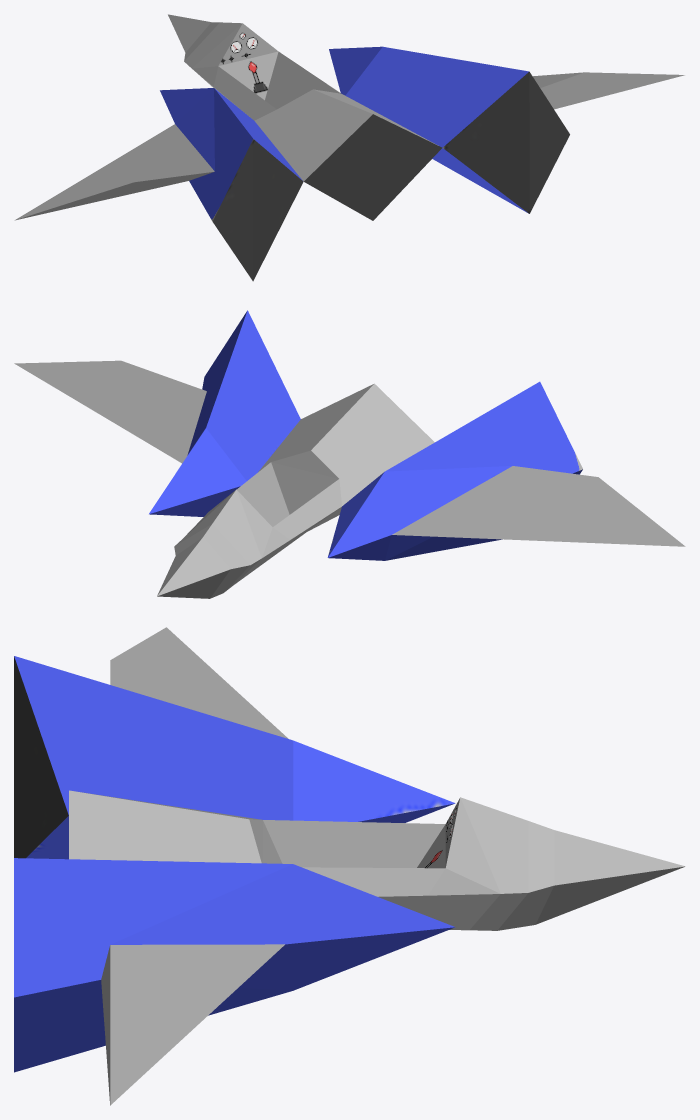
The model's file is playership.fbx.
3 renders of one model, top to bottom at view 1: azimuth 30°, elevation 25°; view 2: azimuth 150°, elevation 25°; view 3: azimuth 270°, elevation 25°, orthographic. The views are drawn at different scales.
Parts seen in each view (by area): view 1: Cube; view 2: Cube; view 3: Cube.
Part boxes in pixels (x1=…): Cube: x1=14, y1=14, x2=684, y2=281; Cube: x1=14, y1=310, x2=685, y2=598; Cube: x1=14, y1=627, x2=685, y2=1105.
Bounding box in the file's own units: 15.04 × 3.14 × 8.93.
Materials: 1 (1 with a texture image).
